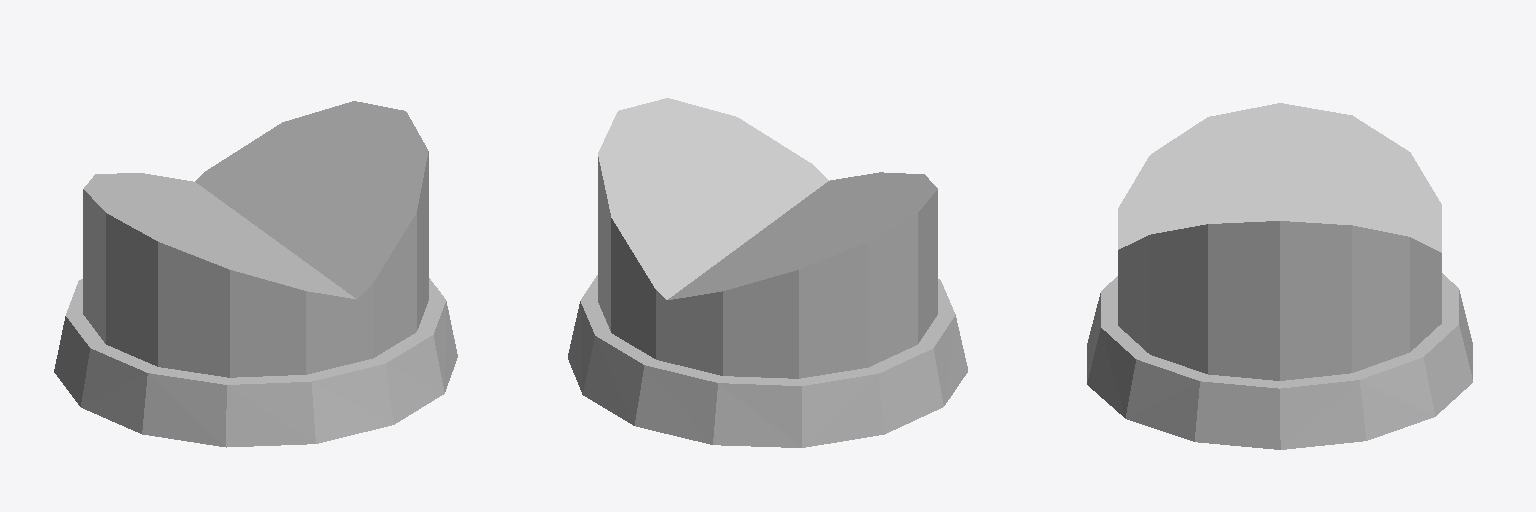
Rendered from kolumna_2_podstawa.obj.
3 views of the same model, side by side, from view 1: azimuth 30°, elevation 25°; view 2: azimuth 150°, elevation 25°; view 3: azimuth 270°, elevation 25° (orthographic).
Visible parts, largest first — view 1: Cube.011; view 2: Cube.011; view 3: Cube.011.
Part boxes in pixels (bbox=[...]): Cube.011: bbox=[54, 101, 457, 447]; Cube.011: bbox=[568, 98, 967, 447]; Cube.011: bbox=[1087, 103, 1472, 449].
Bounding box in the file's own units: 6.35 × 3.74 × 6.06.